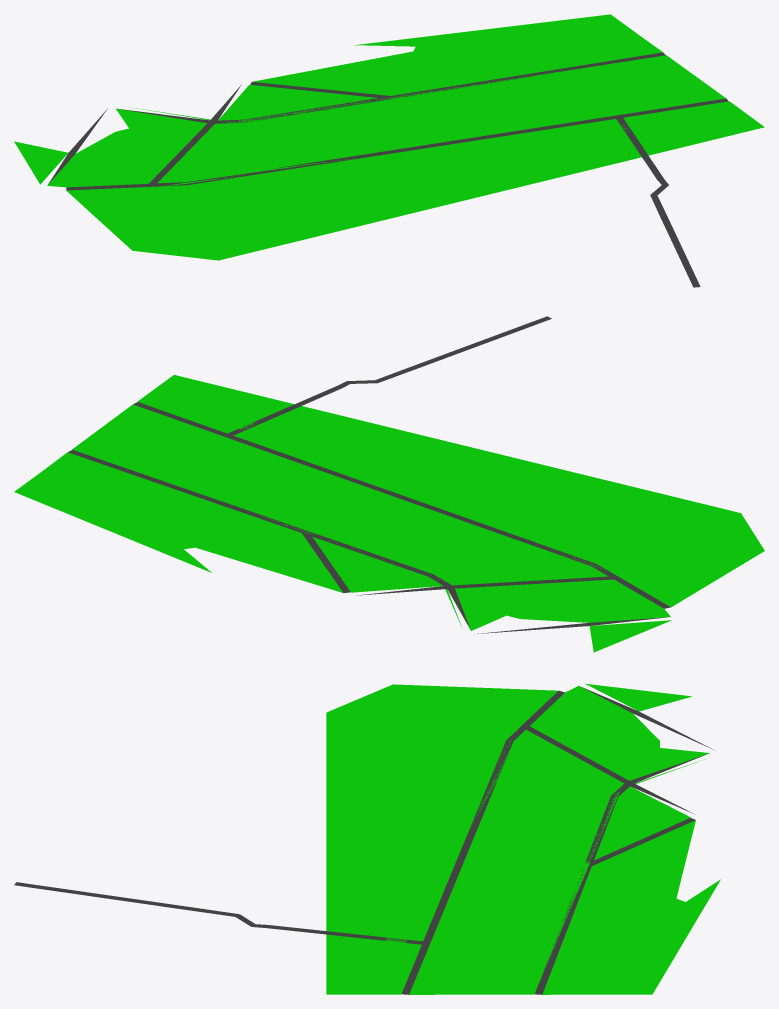
3 renders of one model, top to bottom at view 1: azimuth 30°, elevation 25°; view 2: azimuth 150°, elevation 25°; view 3: azimuth 270°, elevation 25°, orthographic. The views are drawn at different scales.
Size of the model in its own units: 334 by 0 by 338.
